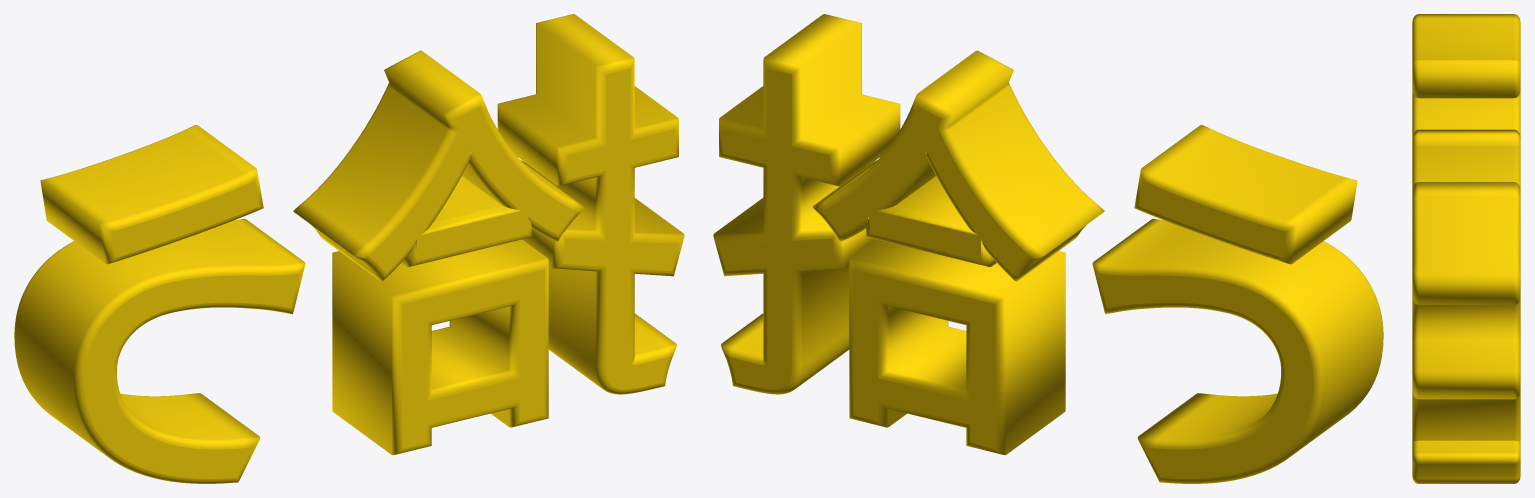
The model's file is title03.obj.
3 views of the same model, side by side, from view 1: azimuth 30°, elevation 25°; view 2: azimuth 150°, elevation 25°; view 3: azimuth 270°, elevation 25° (orthographic). The views are drawn at different scales.
Visible parts, largest first — view 1: テキスト.002; view 2: テキスト.002; view 3: テキスト.002.
Part boxes in pixels (box(x1,y1,x2,y2)): テキスト.002: box(14, 14, 684, 483); テキスト.002: box(713, 14, 1383, 483); テキスト.002: box(1412, 14, 1520, 483).
Bounding box in the file's own units: 1.81 × 0.9652 × 0.34.
1 material, 1 textured.
